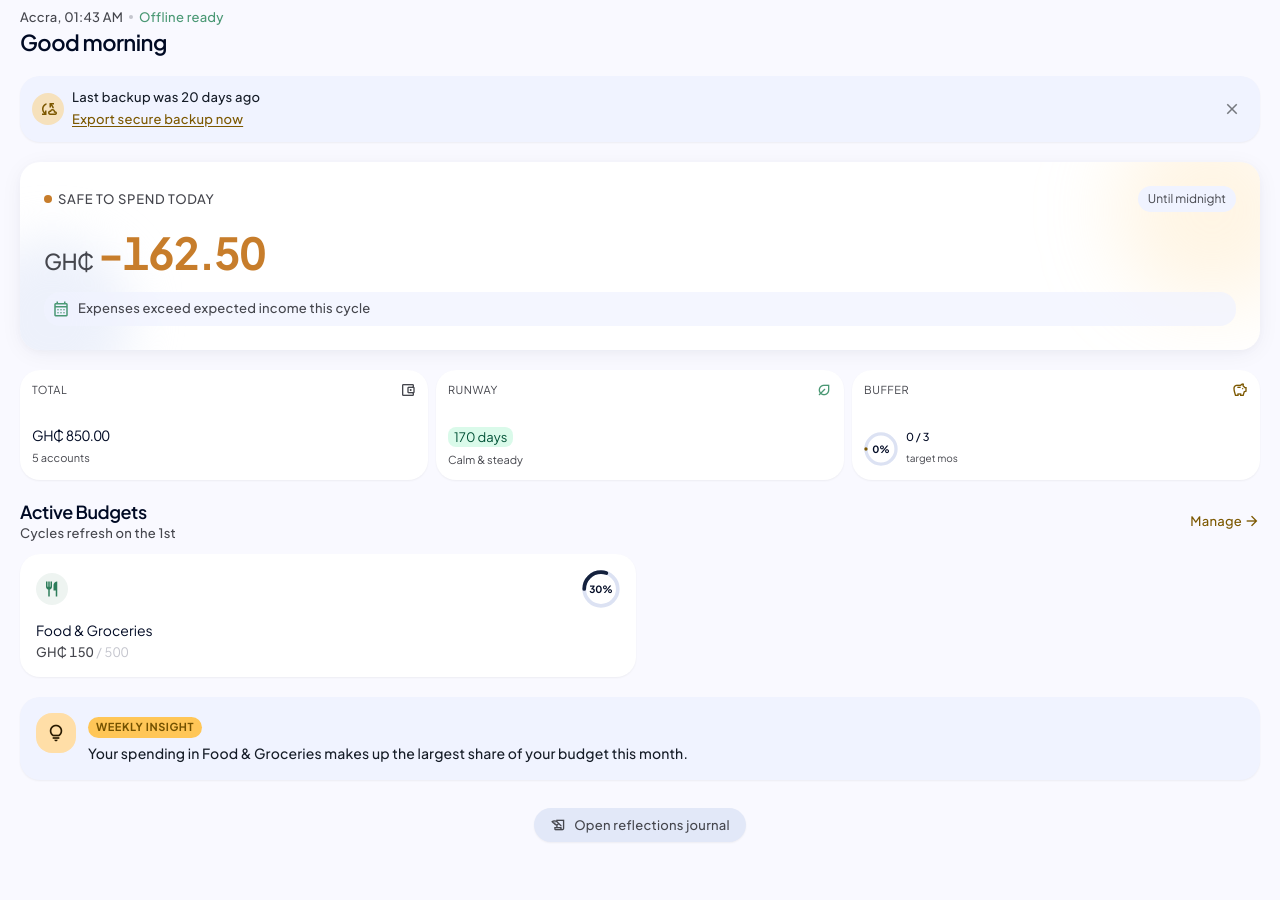
Component: HomeView › shows and allows dismissing the backup warning banner
Expected: the text "Last backup was 20 days ago" is shown, 72,88 -> 260,106
Expected: the text "20 days ago" is shown, 181,89 -> 260,105
Dismiss banner
Step 1. Click the button named "dismiss banner" → click(1232, 109), box 1216,93 -> 1248,125
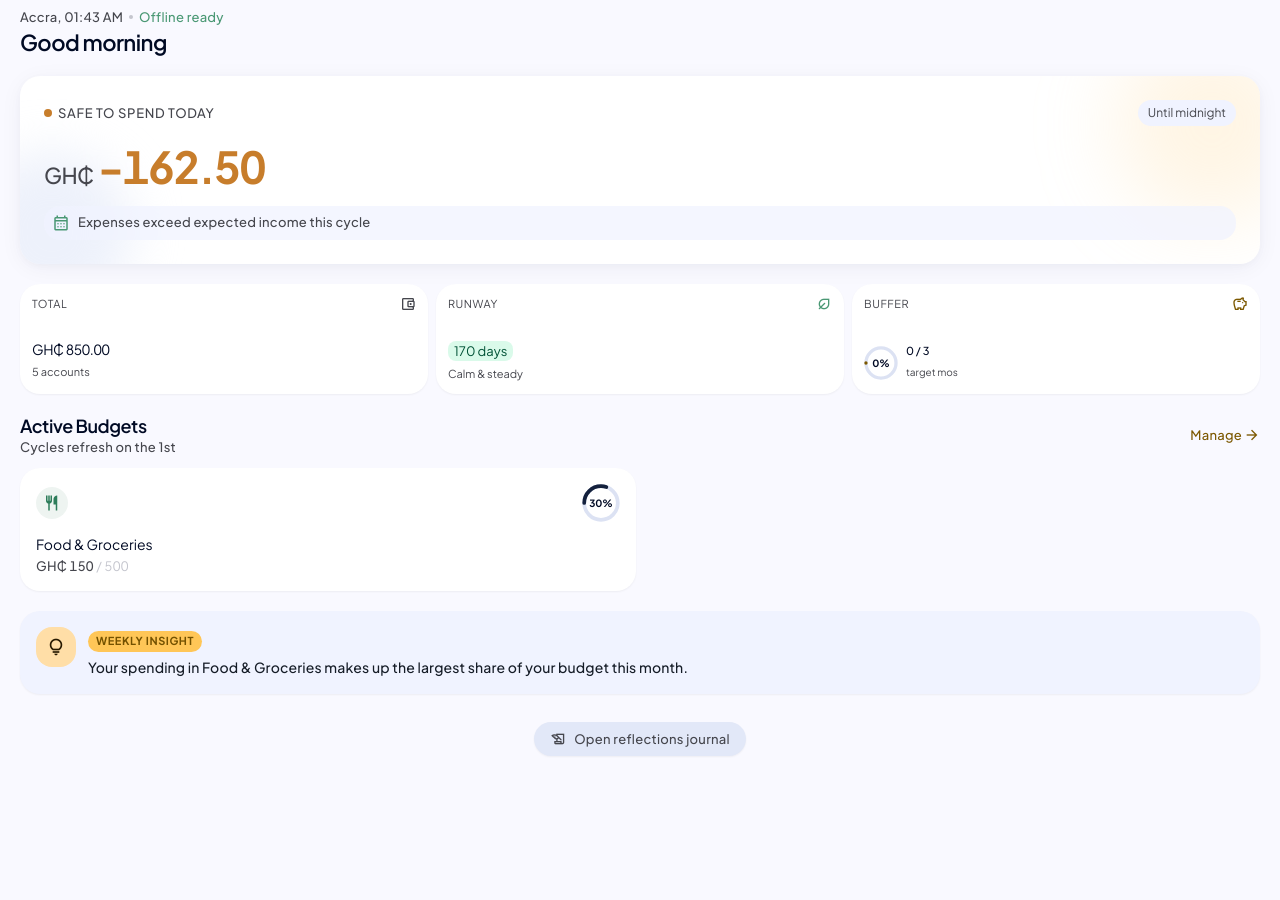
Result: the text "Last backup was" is gone
